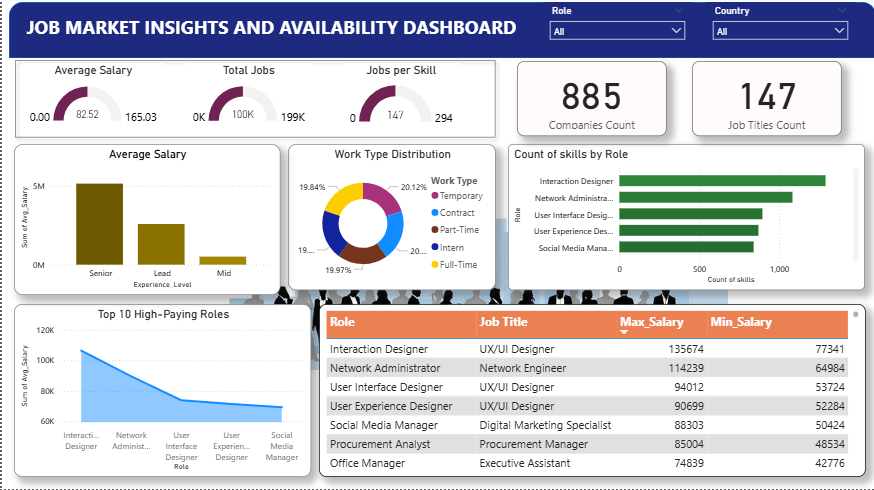

What the dashboard file says about the page in this screenshot:
{"tool":"powerbi","page":{"name":"Job Insights","canvas":[1280,720],"ordinal":0},"visuals":[{"type":"shape","box":[0,73.5,741.2,151.5],"z":0},{"type":"gauge","fields":{"Y":["jobs_Cleaned.Total Jobs"]},"box":[269.1,97.1,183.8,104.4],"z":1000},{"type":"gauge","fields":{"Y":["jobs_Cleaned.Average Salary"]},"box":[30.9,97.1,205.9,104.4],"z":2000},{"type":"gauge","fields":{"Y":["jobs_Cleaned.Jobs per Skill"]},"box":[498.5,97.1,170.6,104.4],"z":3000},{"type":"shape","box":[10.3,7.4,1269.1,82.4],"z":4000},{"type":"slicer","fields":{"Values":["jobs_Cleaned.Role"]},"box":[792,8,218,76],"z":5000},{"type":"slicer","fields":{"Values":["jobs_Cleaned.Country"]},"box":[1030,8,218,76],"z":6000},{"type":"stackedAreaChart","title":"Top 10 High-Paying Roles","fields":{"Category":["jobs_Cleaned.Role"],"Y":["Sum(jobs_Cleaned.Avg_Salary)"]},"box":[17.6,450,435.3,252.9],"z":7000},{"type":"donutChart","title":"Work Type Distribution","fields":{"Category":["jobs_Cleaned.Work Type"],"Y":["jobs_Cleaned.Total Jobs"]},"box":[418.5,215.1,304.4,213.7],"z":8000},{"type":"clusteredColumnChart","title":"Average Salary","fields":{"Category":["jobs_Cleaned.Experience_Level"],"Y":["Sum(jobs_Cleaned.Avg_Salary)"]},"box":[17.6,214.7,389.7,220.6],"z":9000},{"type":"tableEx","fields":{"Values":["jobs_Cleaned.Role Hierarchy.Role","jobs_Cleaned.Role Hierarchy.Job Title","Sum(jobs_Cleaned.Max_Salary_K)","Sum(jobs_Cleaned.Min_Salary_K)"]},"box":[463.2,450,800,252.9],"z":10000},{"type":"textbox","box":[30.7,20.5,761,55.6],"z":11000},{"type":"clusteredBarChart","fields":{"Category":["jobs_Cleaned.Role"],"Y":["CountNonNull(jobs_Cleaned.Role Hierarchy.skills)"]},"box":[740.5,215.1,522.4,213.7],"z":12000},{"type":"card","fields":{"Values":["jobs_Cleaned.Companies Count"]},"box":[752.9,94.1,219.1,110.3],"z":13000},{"type":"card","fields":{"Values":["jobs_Cleaned.Job Titles Count"]},"box":[1010.3,94.1,219.1,110.3],"z":14000}]}

Visuals, with their boxes in screenshot pixels (x1, y1, x2, y2), scaled from the page's 1280x720 canvas onto the 874x490 screenshot:
shape: (0, 50, 506, 153)
gauge - jobs_Cleaned.Total Jobs: (184, 66, 309, 137)
gauge - jobs_Cleaned.Average Salary: (21, 66, 162, 137)
gauge - jobs_Cleaned.Jobs per Skill: (340, 66, 457, 137)
shape: (7, 5, 873, 61)
slicer - jobs_Cleaned.Role: (541, 5, 690, 57)
slicer - jobs_Cleaned.Country: (703, 5, 852, 57)
"Top 10 High-Paying Roles" stackedAreaChart: (12, 306, 309, 478)
"Work Type Distribution" donutChart: (286, 146, 494, 292)
"Average Salary" clusteredColumnChart: (12, 146, 278, 296)
tableEx - jobs_Cleaned.Role Hierarchy.Role x jobs_Cleaned.Role Hierarchy.Job Title: (316, 306, 863, 478)
textbox: (21, 14, 541, 52)
clusteredBarChart - jobs_Cleaned.Role x CountNonNull(jobs_Cleaned.Role Hierarchy.skills): (506, 146, 862, 292)
card - jobs_Cleaned.Companies Count: (514, 64, 664, 139)
card - jobs_Cleaned.Job Titles Count: (690, 64, 839, 139)
